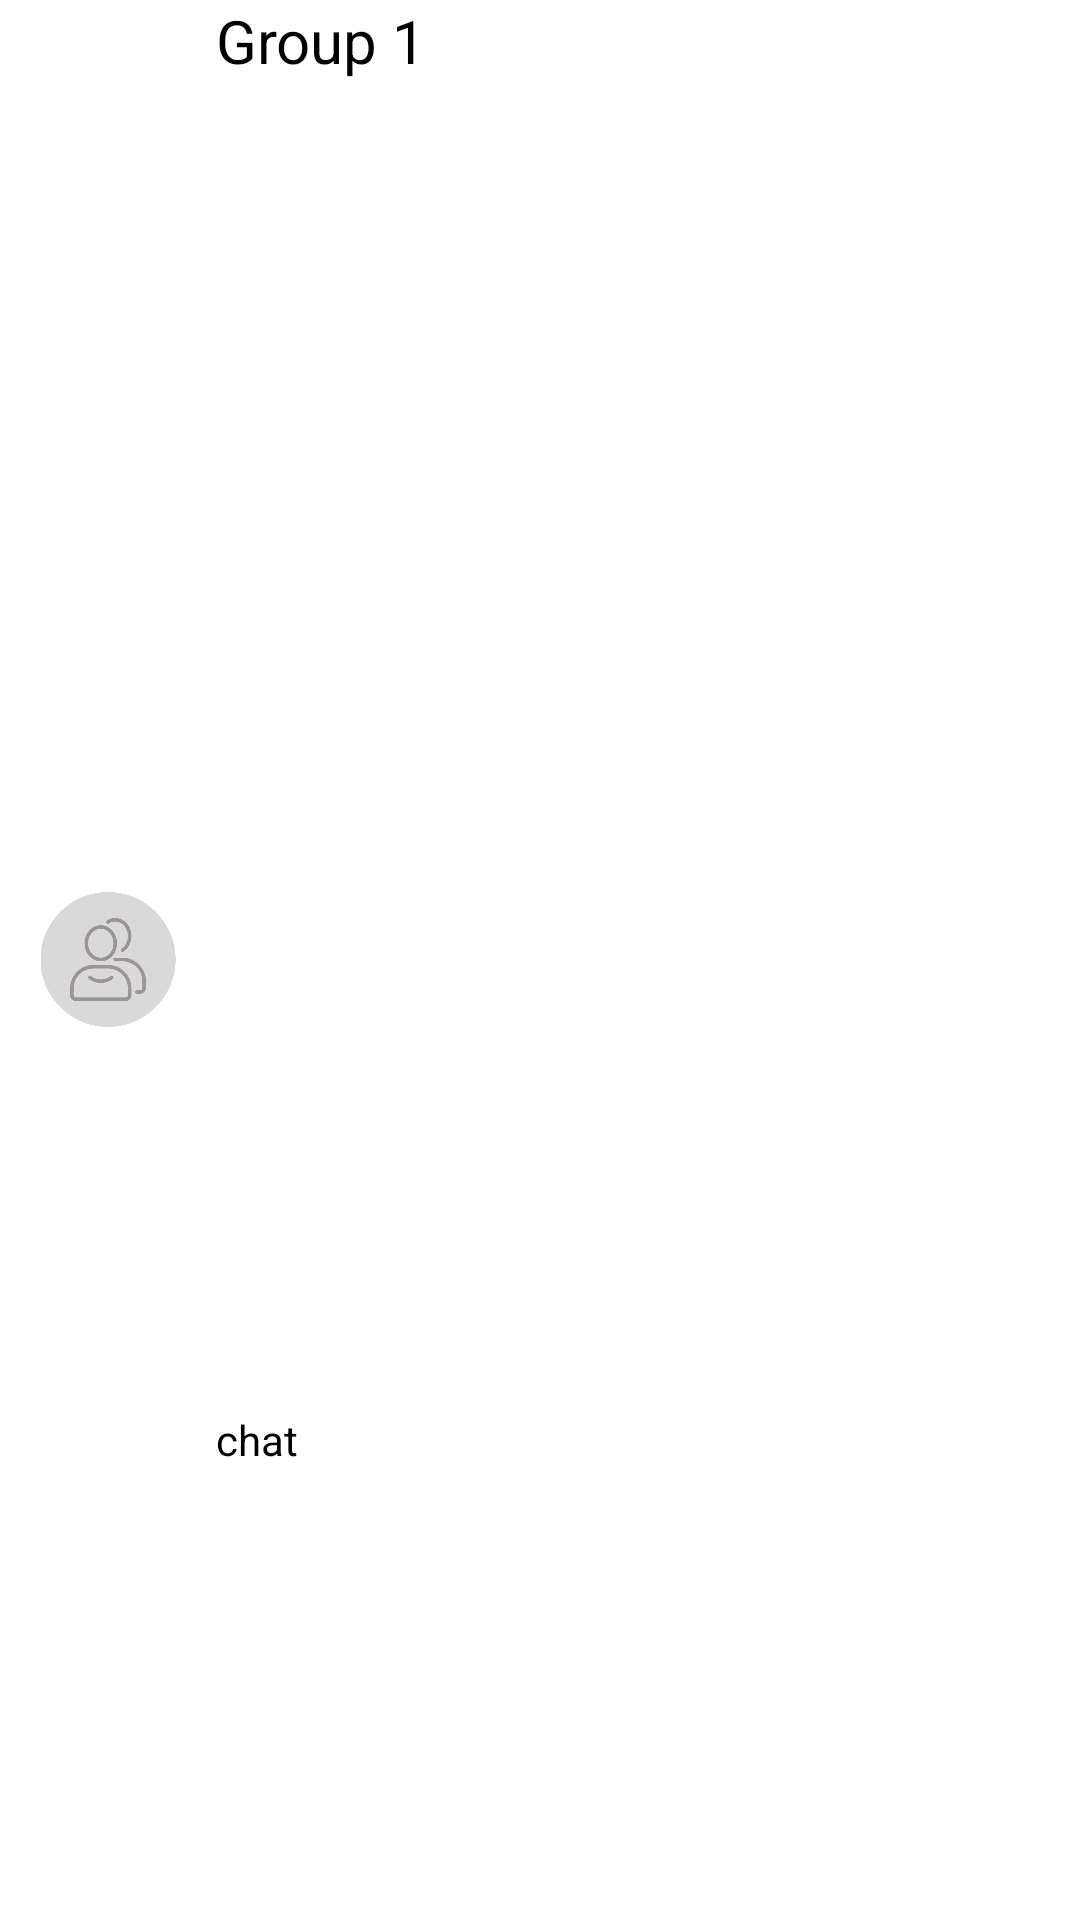

Icon click points for this 1080 x 1920 phone screenshot, format point (x, y):
commnuity group: point (108, 959)
